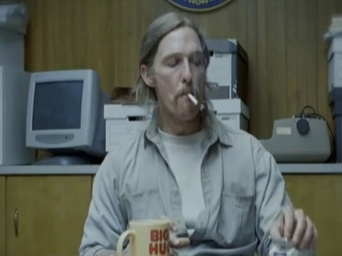smoke: (186, 91, 199, 106)
